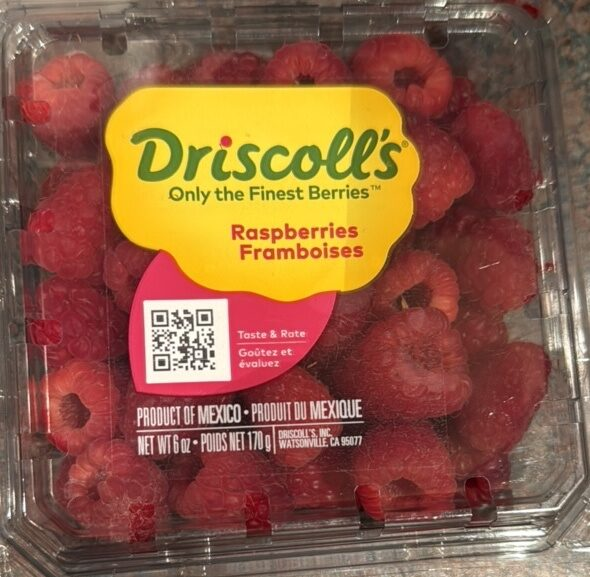Raspberries: (29, 29, 560, 548)
